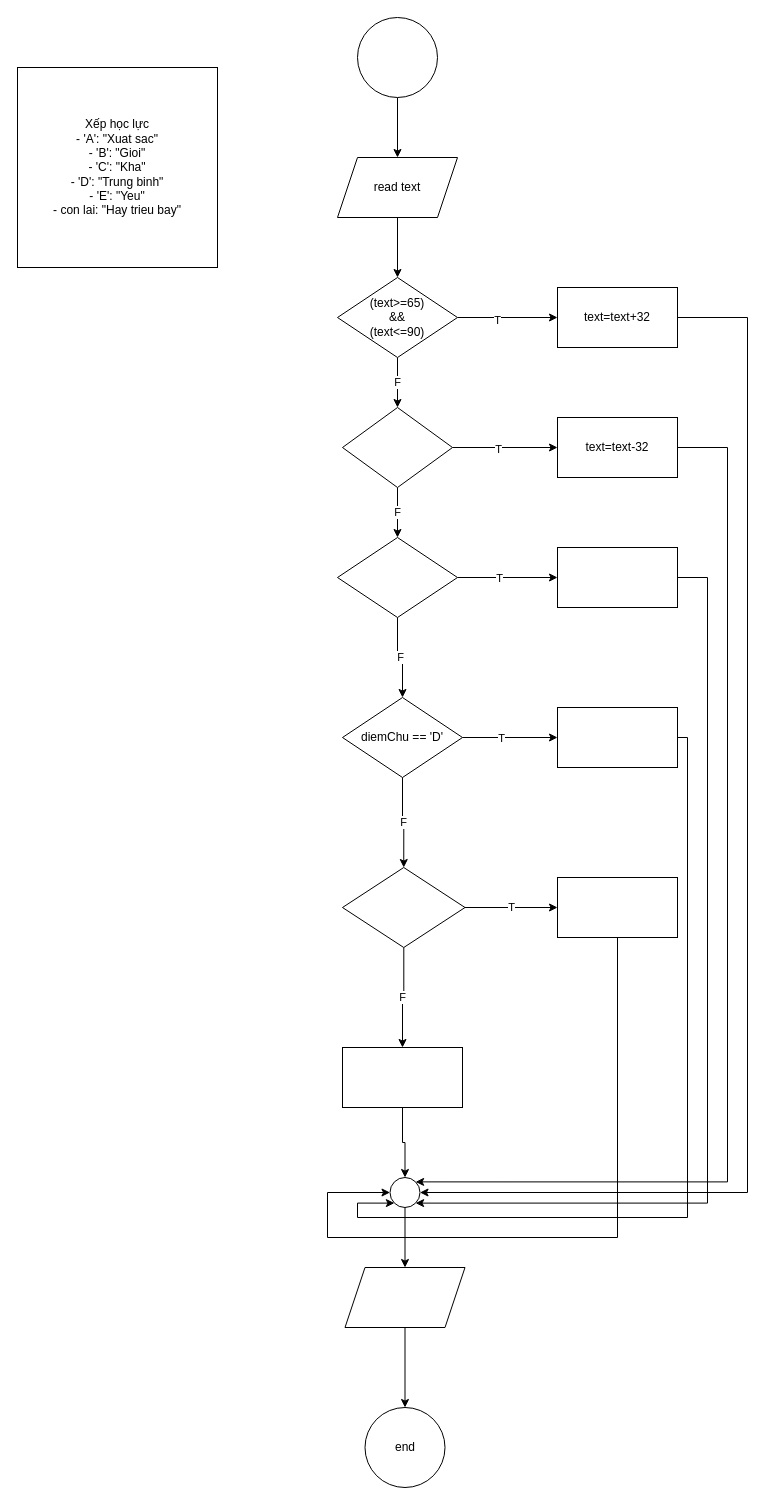
Image size: 773x1505. Some labels were removed from this diagram. The centre of each missing label's shape, as x and y in pixels:
(text>=97) && (text<=122): the point at 397,447
Begin: the point at 397,57
diemChu == 'E': the point at 403,907
